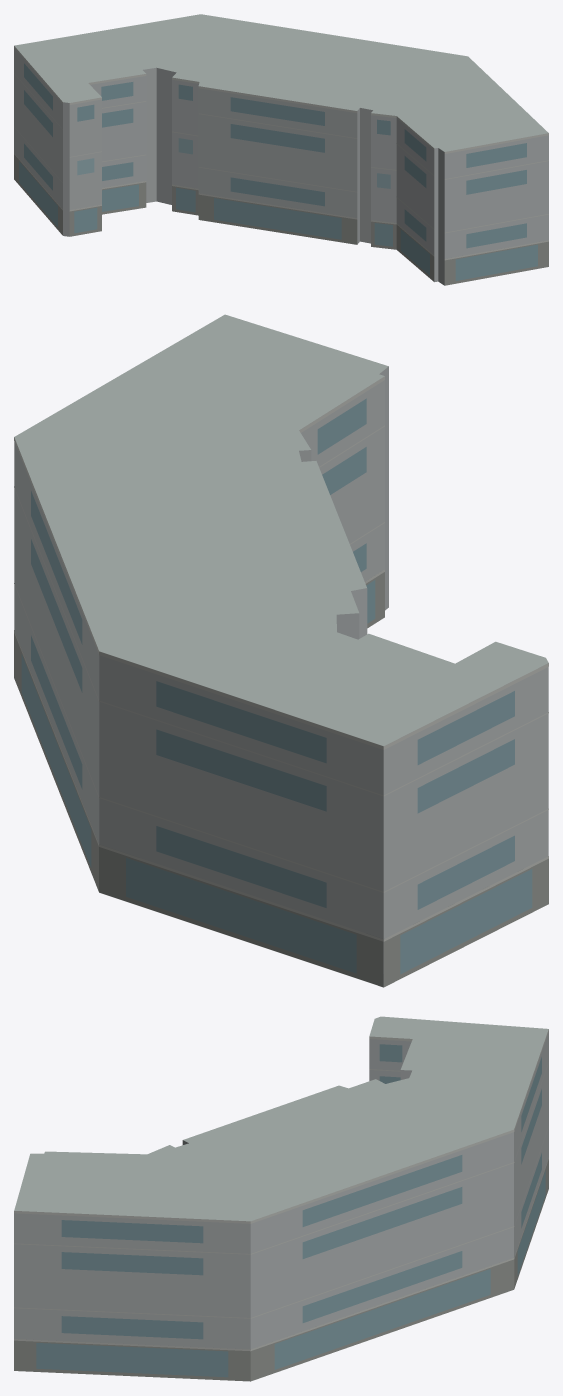
File: survey-upis-32518782.glb
3 renders of one model, top to bottom at view 1: azimuth 30°, elevation 25°; view 2: azimuth 150°, elevation 25°; view 3: azimuth 270°, elevation 25°, orthographic. The views are drawn at different scales.
Parts seen in each view (by area): view 1: survey-upis-32518782.tmp; view 2: survey-upis-32518782.tmp; view 3: survey-upis-32518782.tmp.
Part boxes in pixels (x1,y1,x2,y2): survey-upis-32518782.tmp: (14, 14, 548, 285); survey-upis-32518782.tmp: (14, 314, 548, 987); survey-upis-32518782.tmp: (14, 1016, 548, 1381).
Size of the model in its own units: 41.87 by 15.25 by 46.18.
